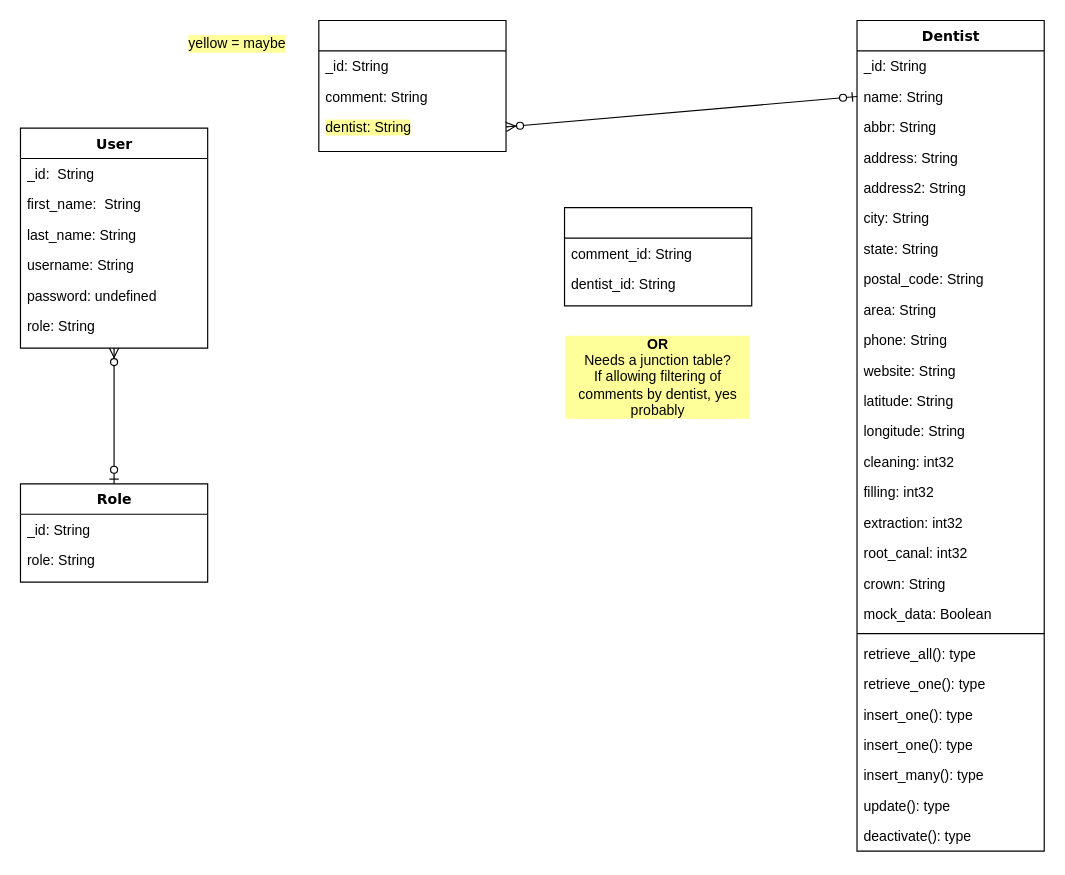
Image size: 1065x875. Some labels were removed from this diagram. The box of each missing label's shape, as (x1, y1, x2, y2) in pixels:
jct_dentist_comment: (563, 207, 752, 306)
User_Comments: (318, 19, 506, 152)
